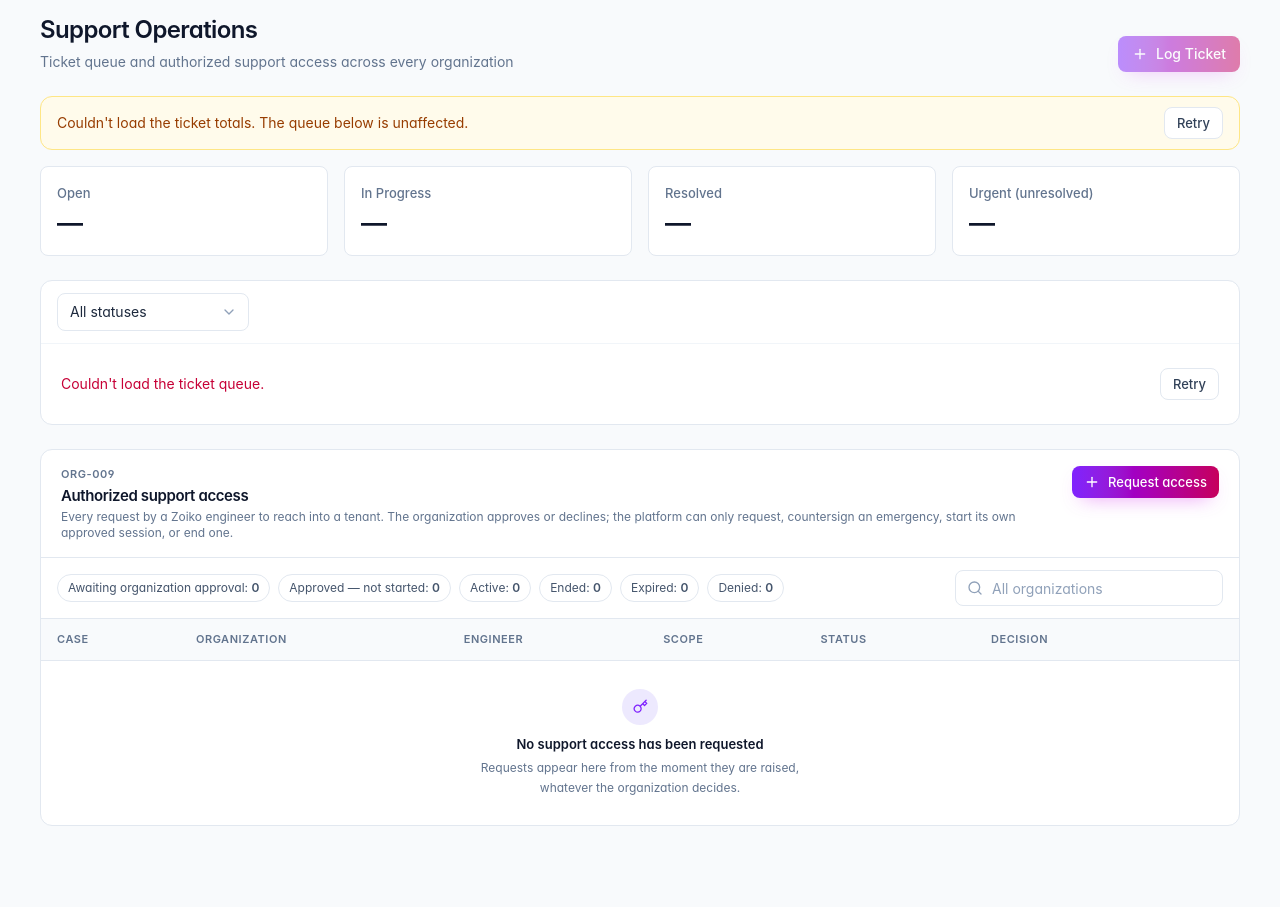
Scenario: a failed ticket queue › offers a retry rather than telling the operator to refresh
The image size is (1280, 907).
Click the button "Retry" in the row of "Couldn't load the ticket queue.": (1190, 384) [1160, 368, 1219, 400]
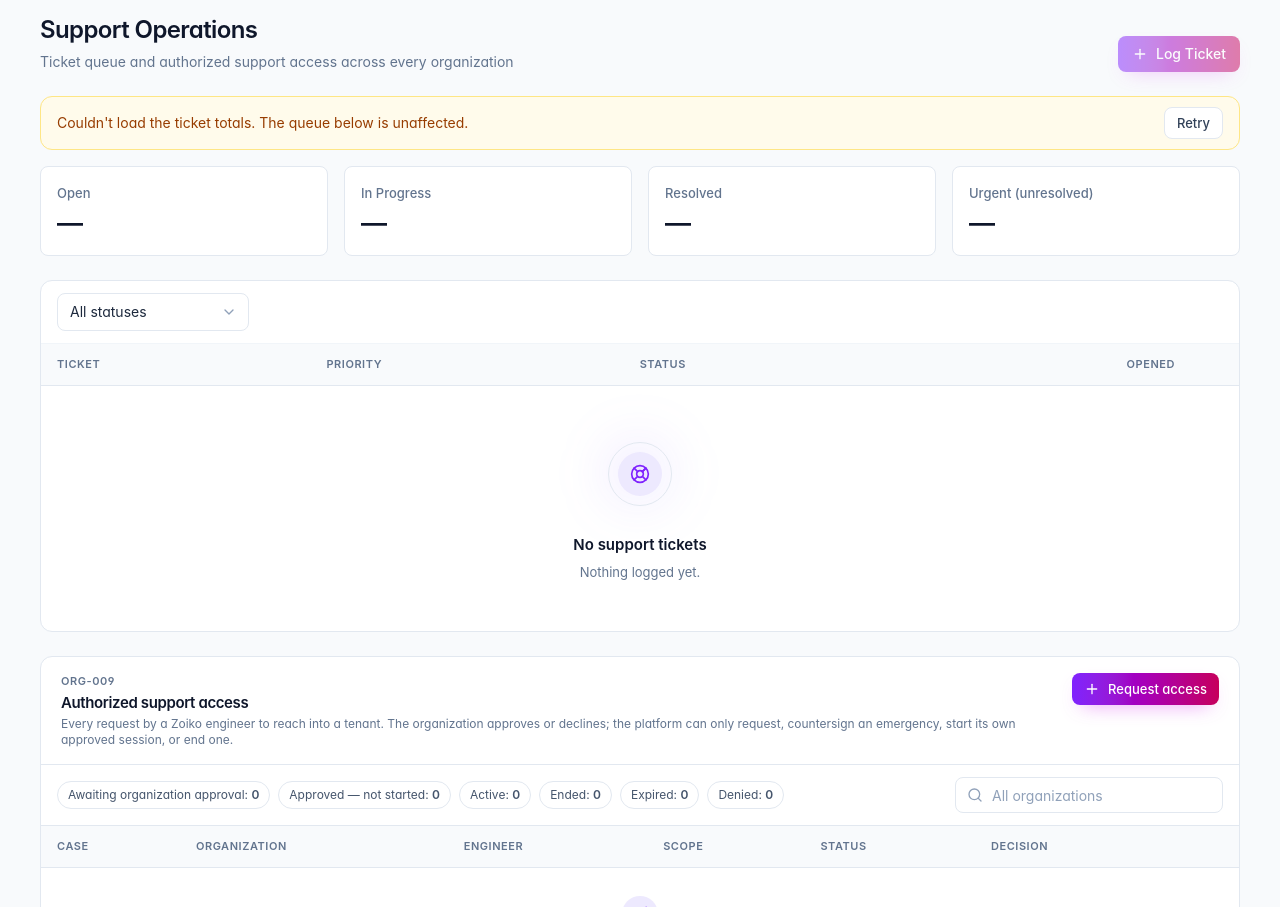
Result: the text "No support tickets" is shown at [573, 534, 707, 554]
